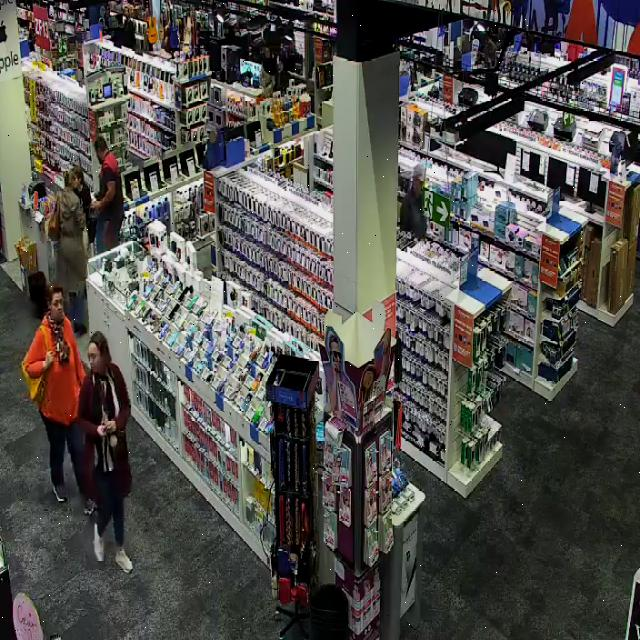bags: (22, 361, 45, 402), (48, 200, 60, 240)
hands: (44, 349, 54, 370), (97, 424, 108, 438), (105, 420, 116, 434), (88, 202, 100, 211)
person: (23, 287, 88, 501), (78, 331, 132, 572), (52, 171, 85, 331), (93, 136, 123, 252), (400, 163, 424, 237)
